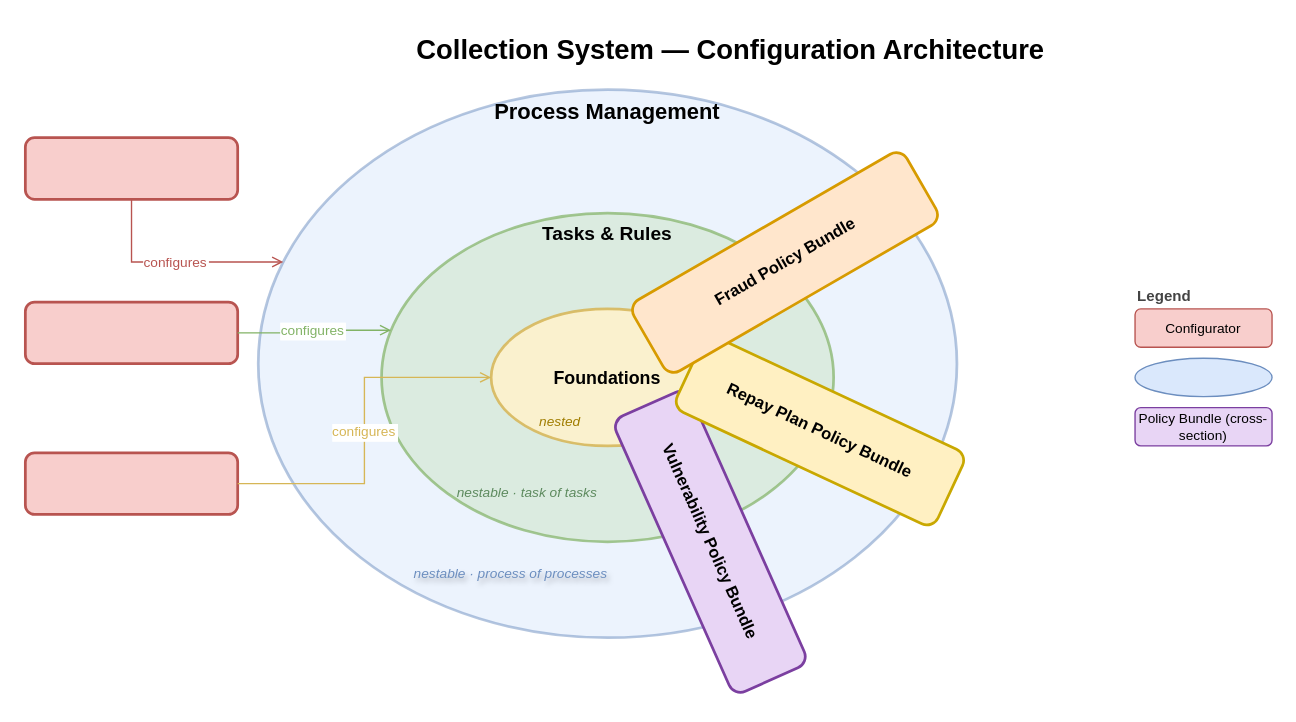
Image size: 1296x722. Some labels were removed from this diagram. Each missing label, with the centre of its shape:
"Architecture Layer" goes at point (1203, 377).
"Foundations Configurator" goes at point (130, 483).
"Process Configurator" goes at point (130, 168).
"Task Configurator" goes at point (130, 332).
